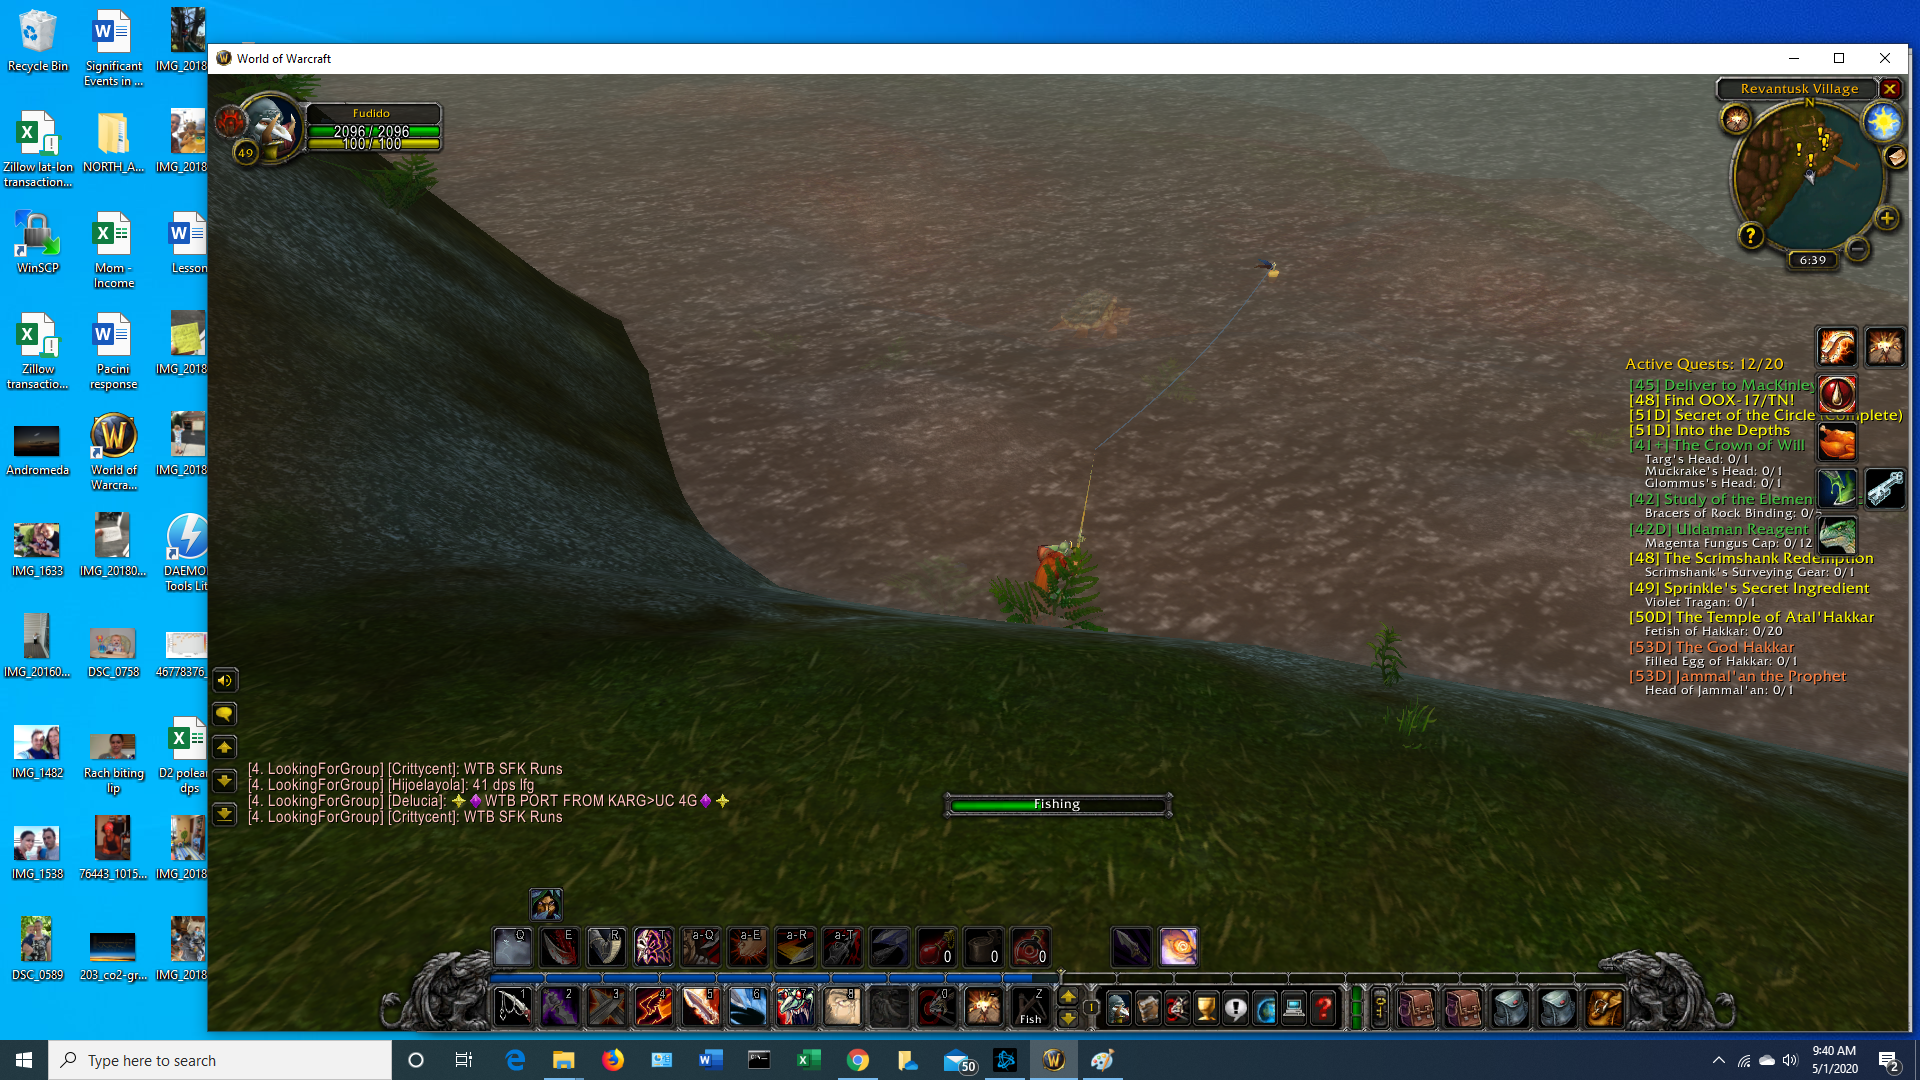bobble: (1258, 253, 1283, 284)
